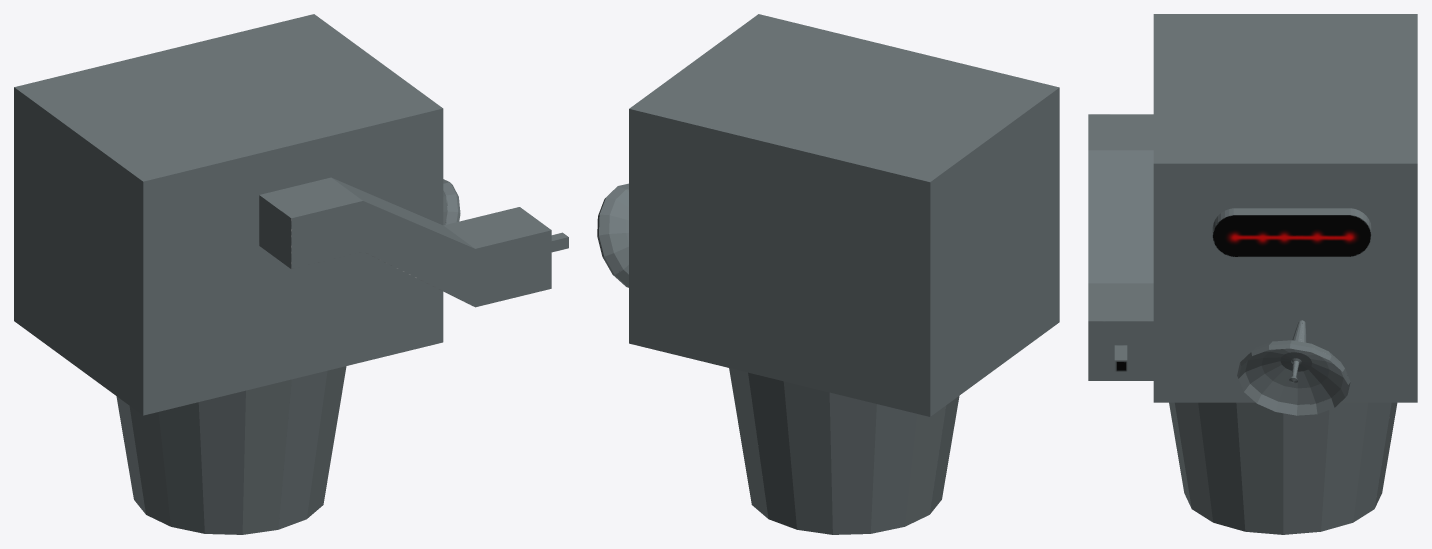
Rendered from shooter.obj.
3 views of the same model, side by side, from view 1: azimuth 30°, elevation 25°; view 2: azimuth 150°, elevation 25°; view 3: azimuth 270°, elevation 25° (orthographic). The views are drawn at different scales.
Visible parts, largest first — view 1: Mesh_Circle; view 2: Mesh_Circle; view 3: Mesh_Circle.
Part boxes in pixels (x1,y1,x2,y2): Mesh_Circle: (14,14,568,534); Mesh_Circle: (597,14,1059,534); Mesh_Circle: (1088,14,1417,534).
Size of the model in its own units: 5.32 by 4.95 by 3.65.
